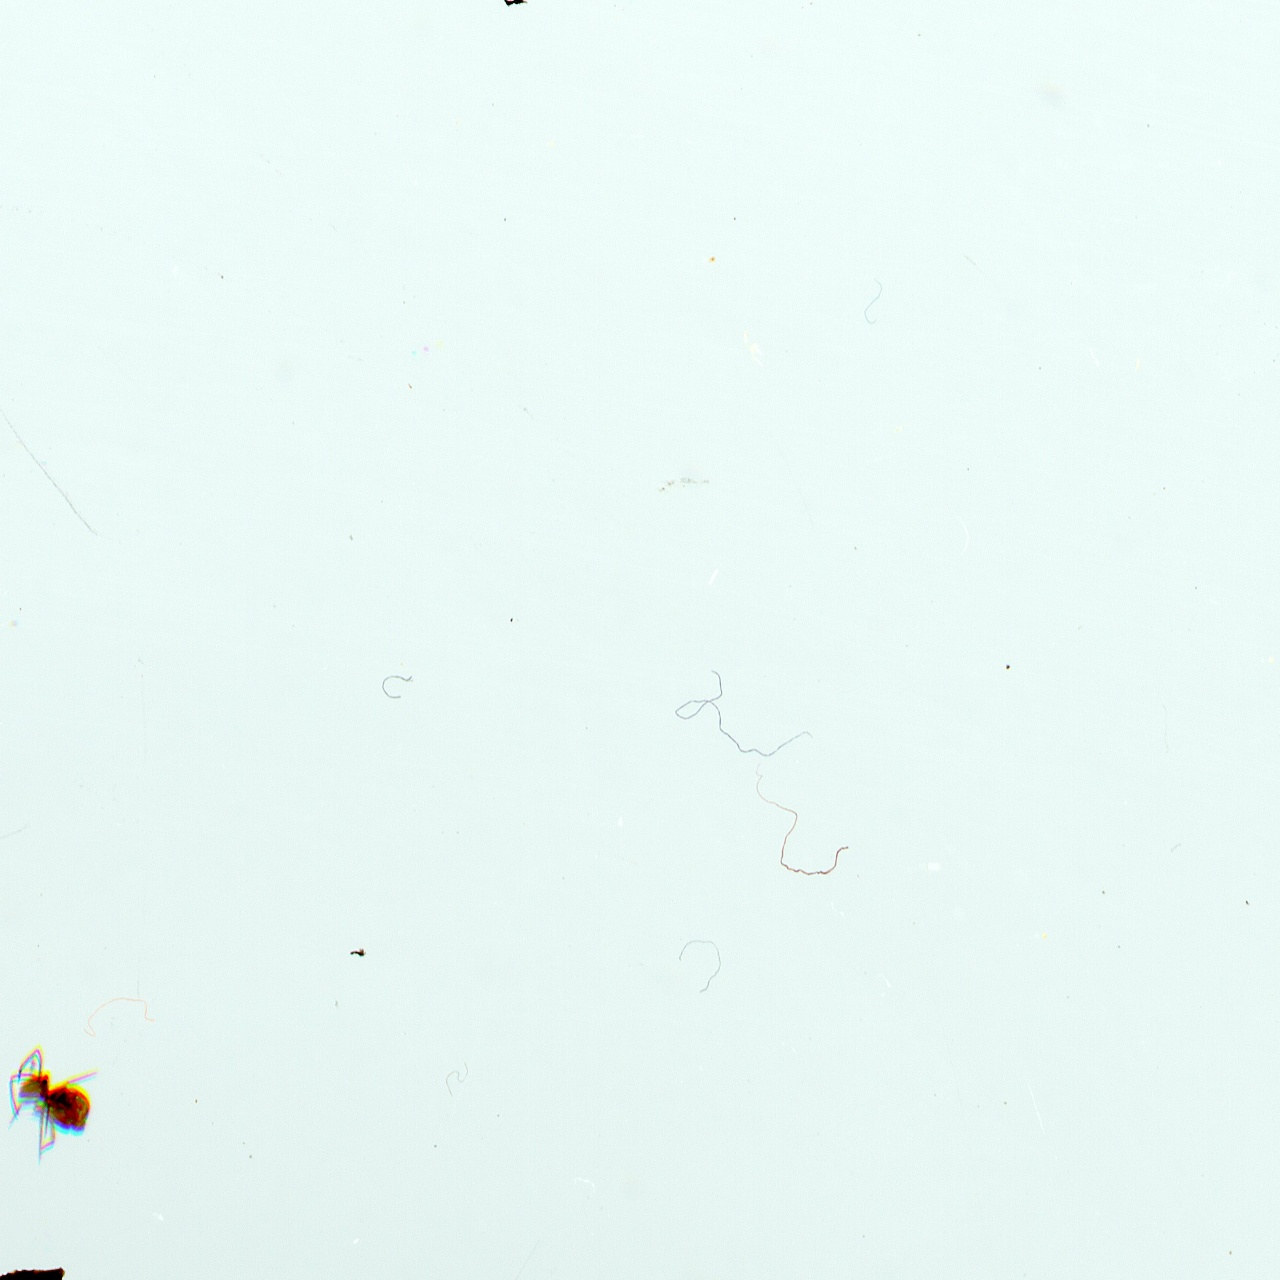arthropod: (1, 1042, 103, 1169)
